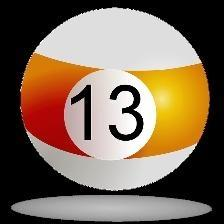Sports-Ball: (13, 3, 212, 198)
